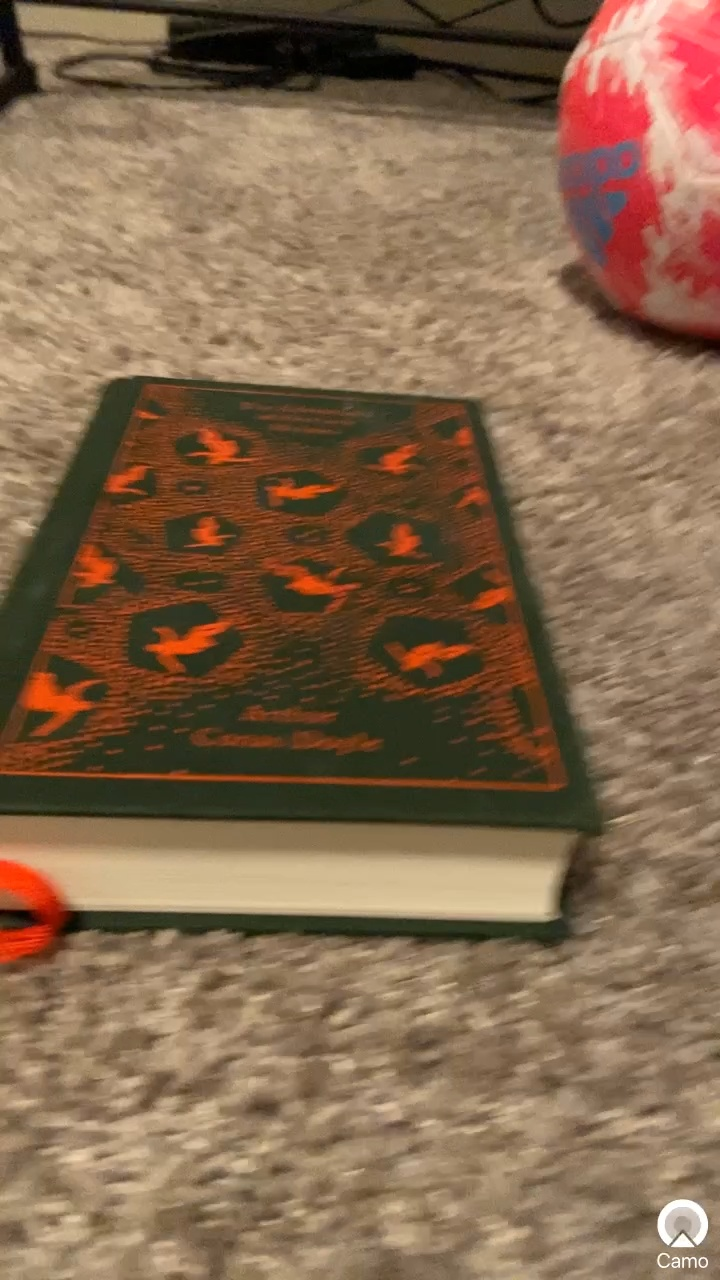Book: (1, 364, 638, 975)
